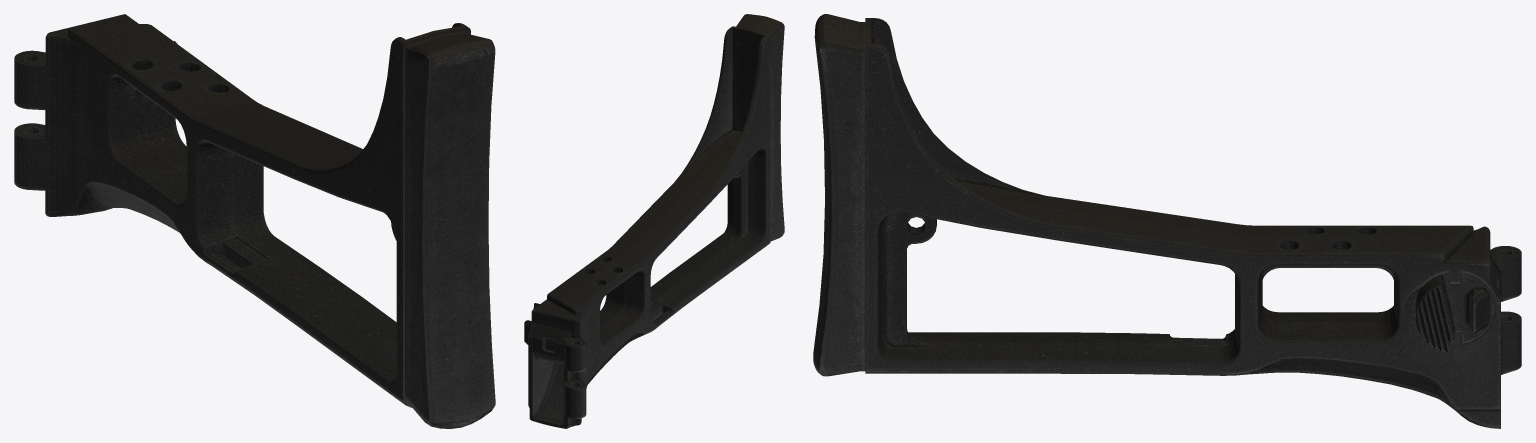
3 views of the same model, side by side, from view 1: azimuth 30°, elevation 25°; view 2: azimuth 150°, elevation 25°; view 3: azimuth 270°, elevation 25° (orthographic). The views are drawn at different scales.
Parts seen in each view (by area): view 1: TW_622f140da5958f63c67f1735_PZ_Import; view 2: TW_622f140da5958f63c67f1735_PZ_Import; view 3: TW_622f140da5958f63c67f1735_PZ_Import.
Part boxes in pixels (x1,y1,x2,y2): TW_622f140da5958f63c67f1735_PZ_Import: (14, 14, 495, 428); TW_622f140da5958f63c67f1735_PZ_Import: (524, 14, 784, 428); TW_622f140da5958f63c67f1735_PZ_Import: (813, 14, 1521, 428).
Size of the model in its own units: 0.0289 by 0.1572 by 0.0962.
1 material, 1 textured.
